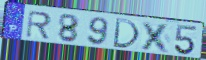5: (173, 23, 199, 57)
8: (57, 13, 81, 44)
9: (85, 16, 109, 47)
D: (111, 17, 141, 50)
R: (25, 10, 54, 41)
X: (139, 20, 173, 54)
